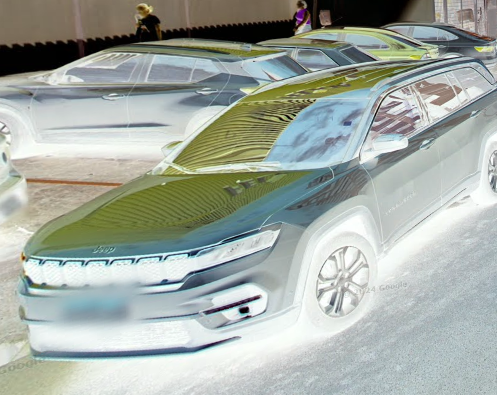car: (19, 55, 497, 361)
